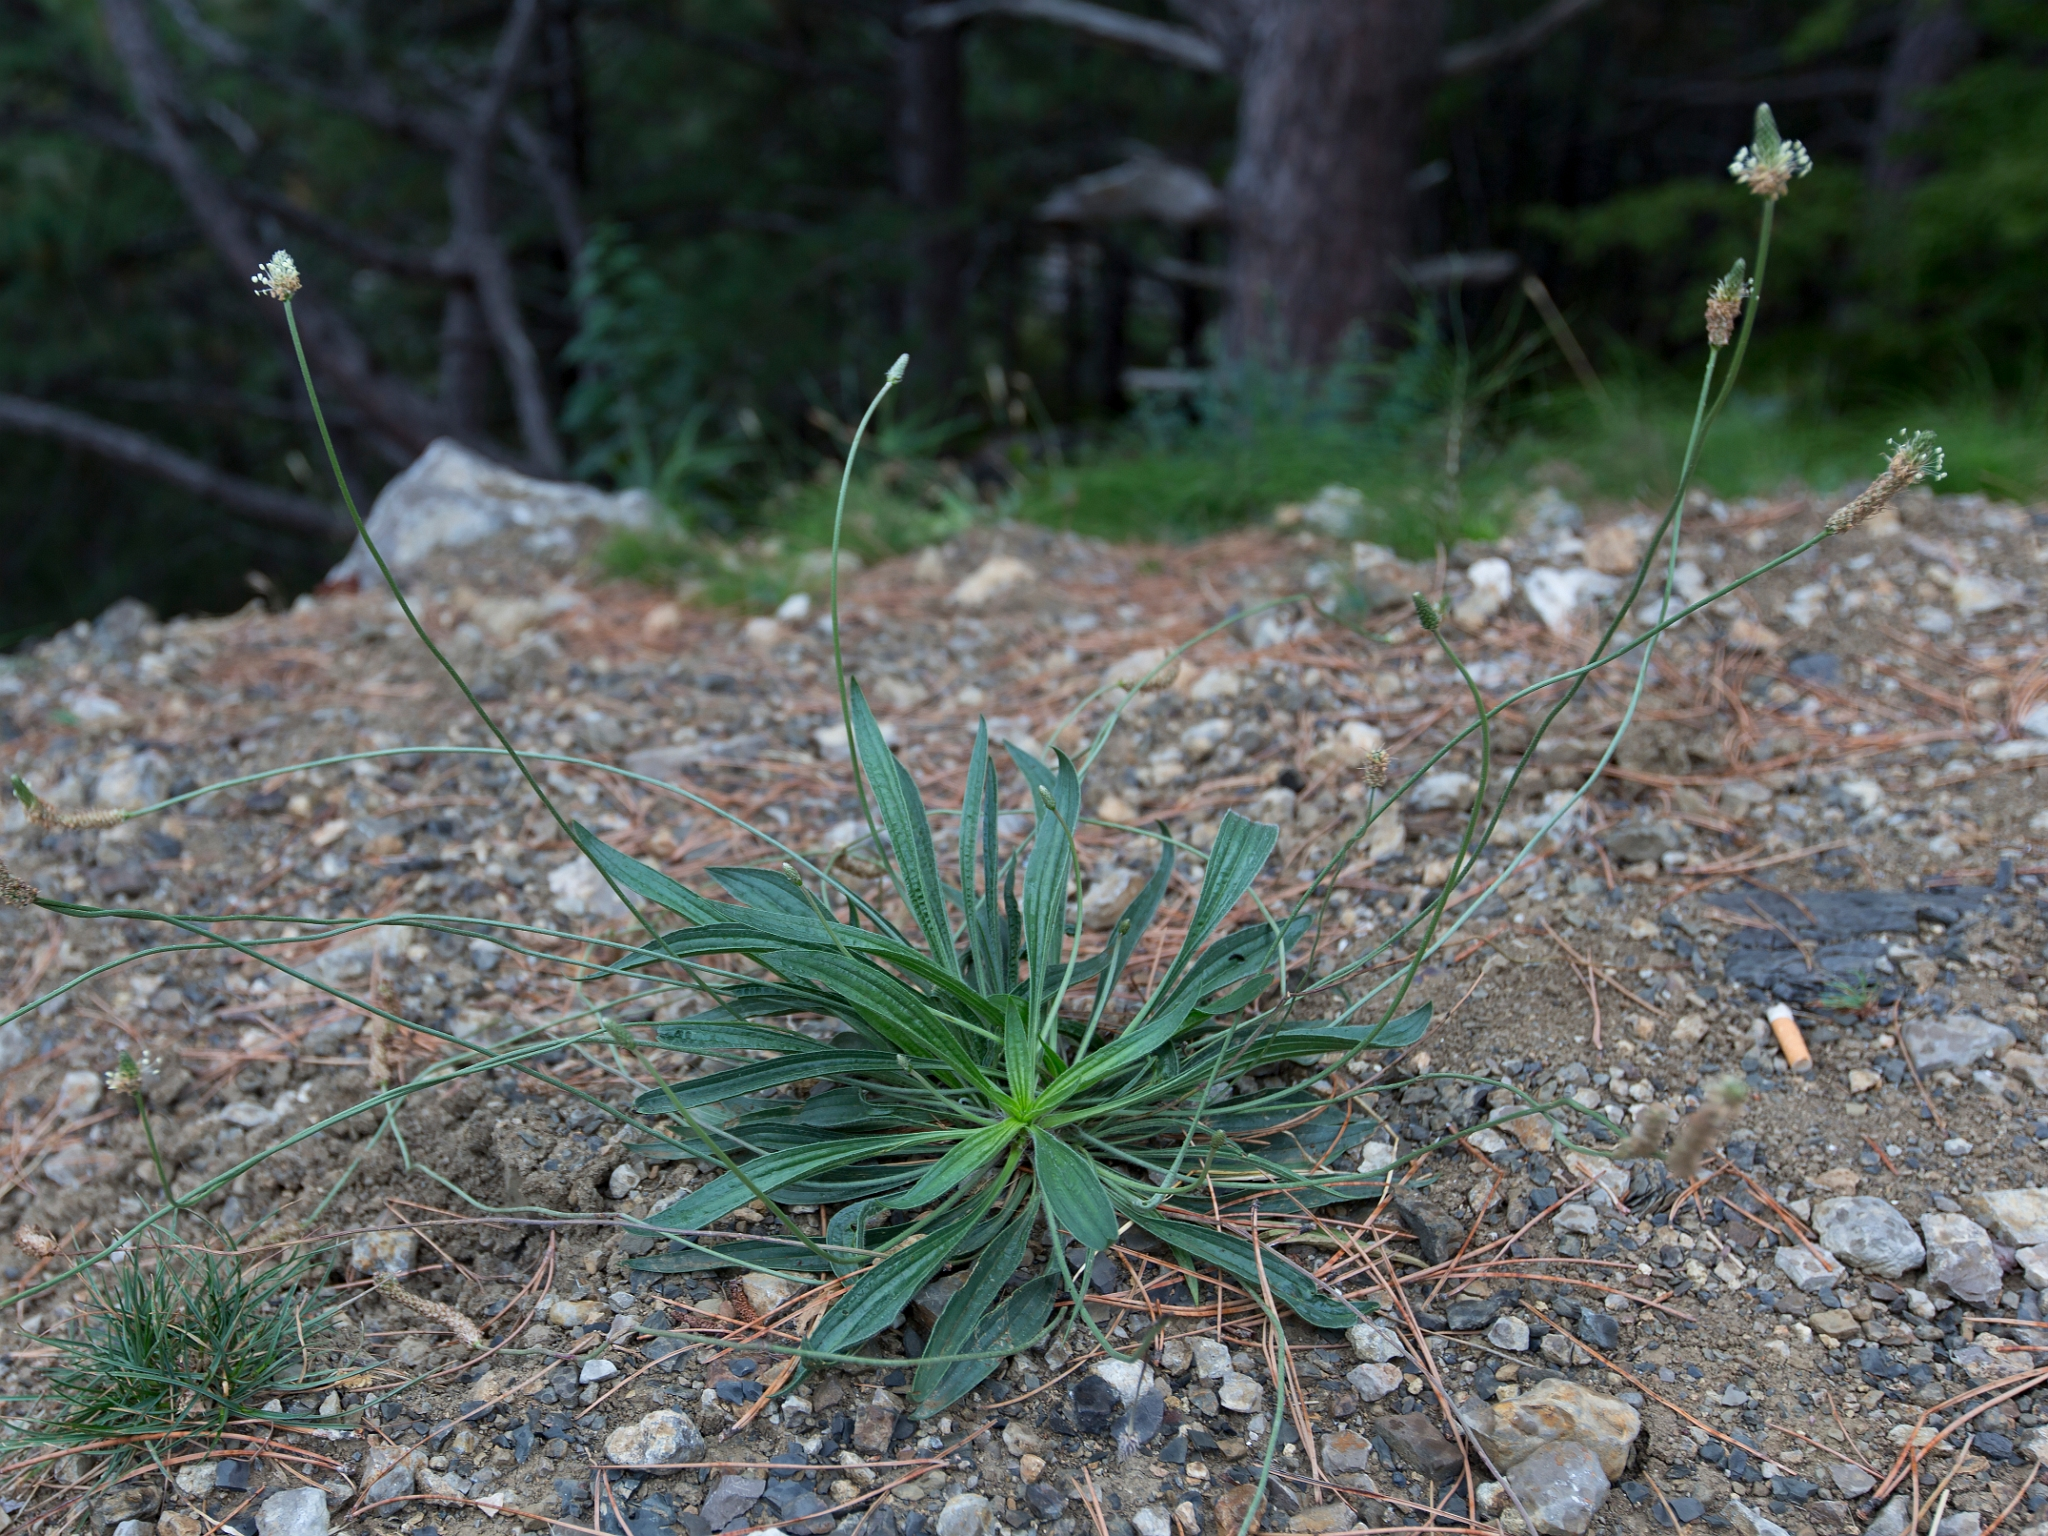buckhorn plantain: (176, 229, 1756, 1279)
